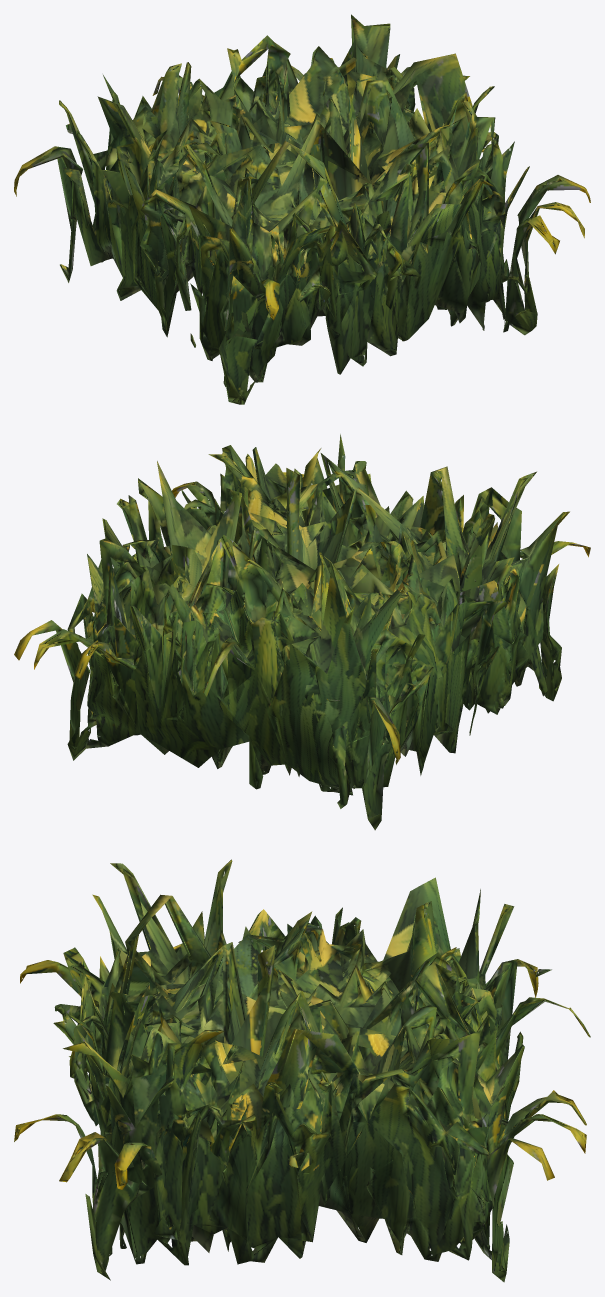
File: Prop_GrassTall.fbx
3 views of the same model, one above another, from view 1: azimuth 30°, elevation 25°; view 2: azimuth 150°, elevation 25°; view 3: azimuth 270°, elevation 25° (orthographic). The views are drawn at different scales.
Parts seen in each view (by area): view 1: texture_mapping; view 2: texture_mapping; view 3: texture_mapping.
Boxes of the visible parts, bbox=[...] form: texture_mapping: bbox=[14, 14, 590, 404]; texture_mapping: bbox=[14, 434, 590, 830]; texture_mapping: bbox=[14, 859, 590, 1282].
Bounding box in the file's own units: 0.927 × 0.9959 × 0.5274.
1 material, 1 textured.
